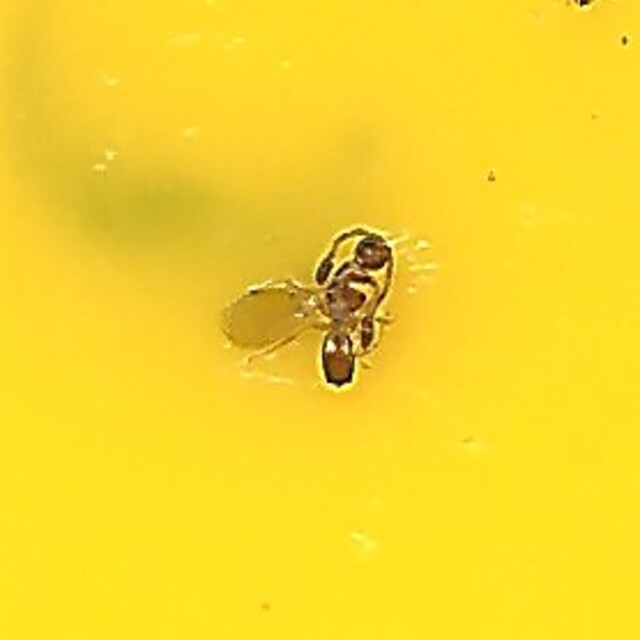Hymenoptera: (230, 238, 410, 402)
